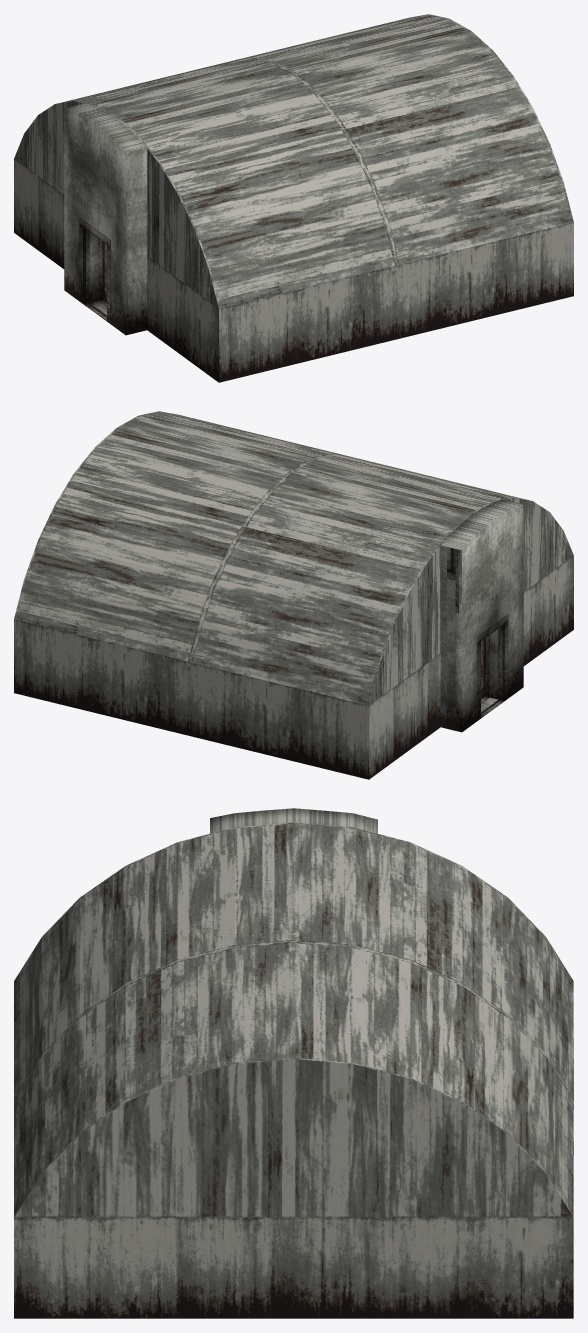
File: SM_EC_ConcreteTunnel_Room_0.fbx
3 renders of one model, top to bottom at view 1: azimuth 30°, elevation 25°; view 2: azimuth 150°, elevation 25°; view 3: azimuth 270°, elevation 25°, orthographic. The views are drawn at different scales.
Parts seen in each view (by area): view 1: SM_EC_ConcreteTunnel_Room_0; view 2: SM_EC_ConcreteTunnel_Room_0; view 3: SM_EC_ConcreteTunnel_Room_0.
Part boxes in pixels (box(x1,y1,x2,y2)): SM_EC_ConcreteTunnel_Room_0: box(14, 14, 573, 382); SM_EC_ConcreteTunnel_Room_0: box(14, 411, 573, 779); SM_EC_ConcreteTunnel_Room_0: box(14, 808, 573, 1318).
Size of the model in its own units: 10.6 by 10 by 5.12.
